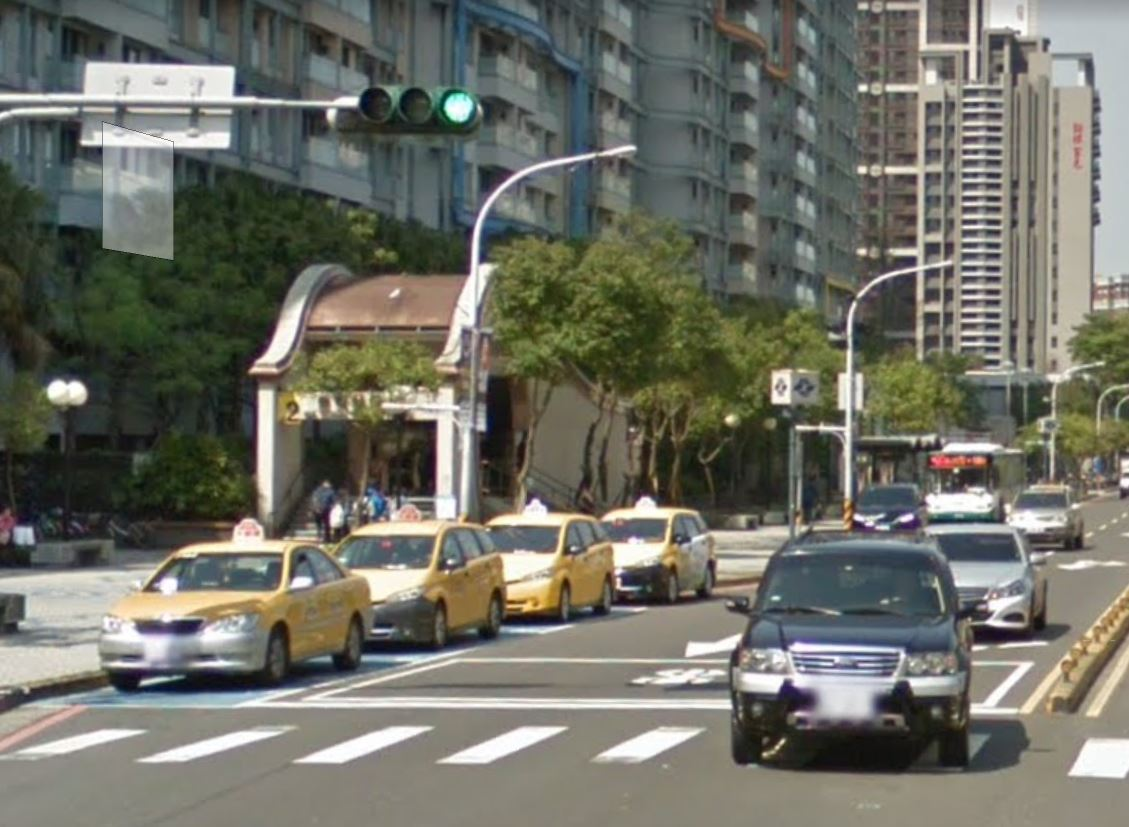Traffic_light_green: (359, 78, 482, 132)
car: (723, 533, 992, 773), (92, 511, 378, 688)
